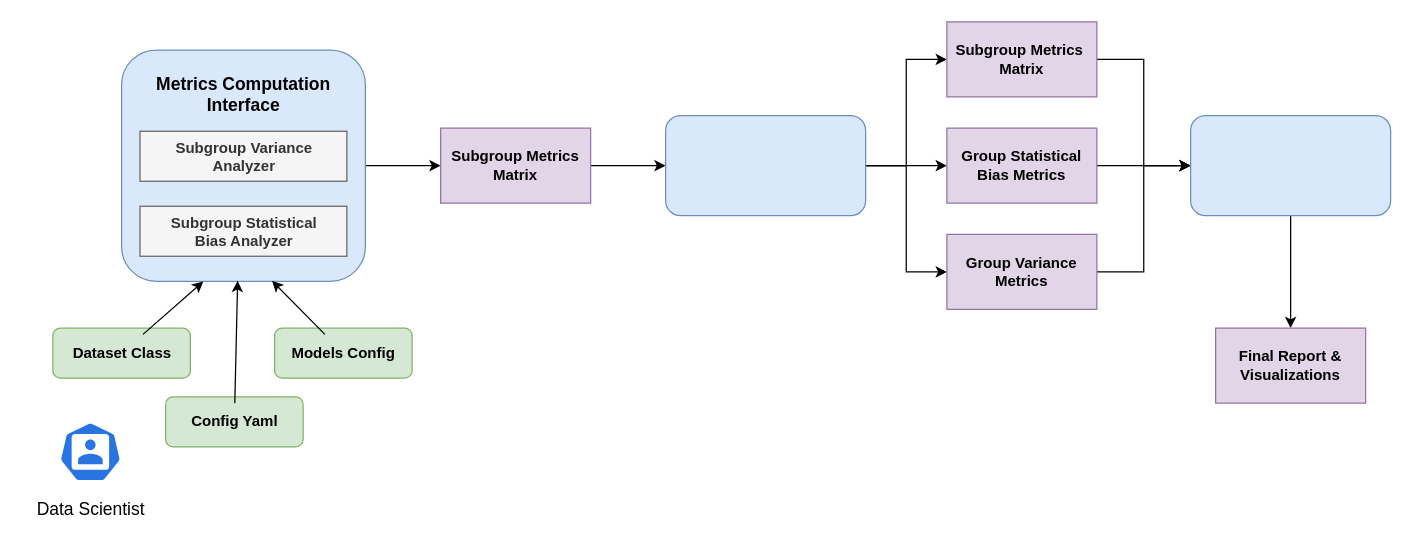
This 1413x550 diagram has some shape labels left out. Here are the shapes that lost their labels. From the top down, the centre of each, then its label:
[765,165]: Metrics Composer
[1290,165]: Metrics Visualizer
